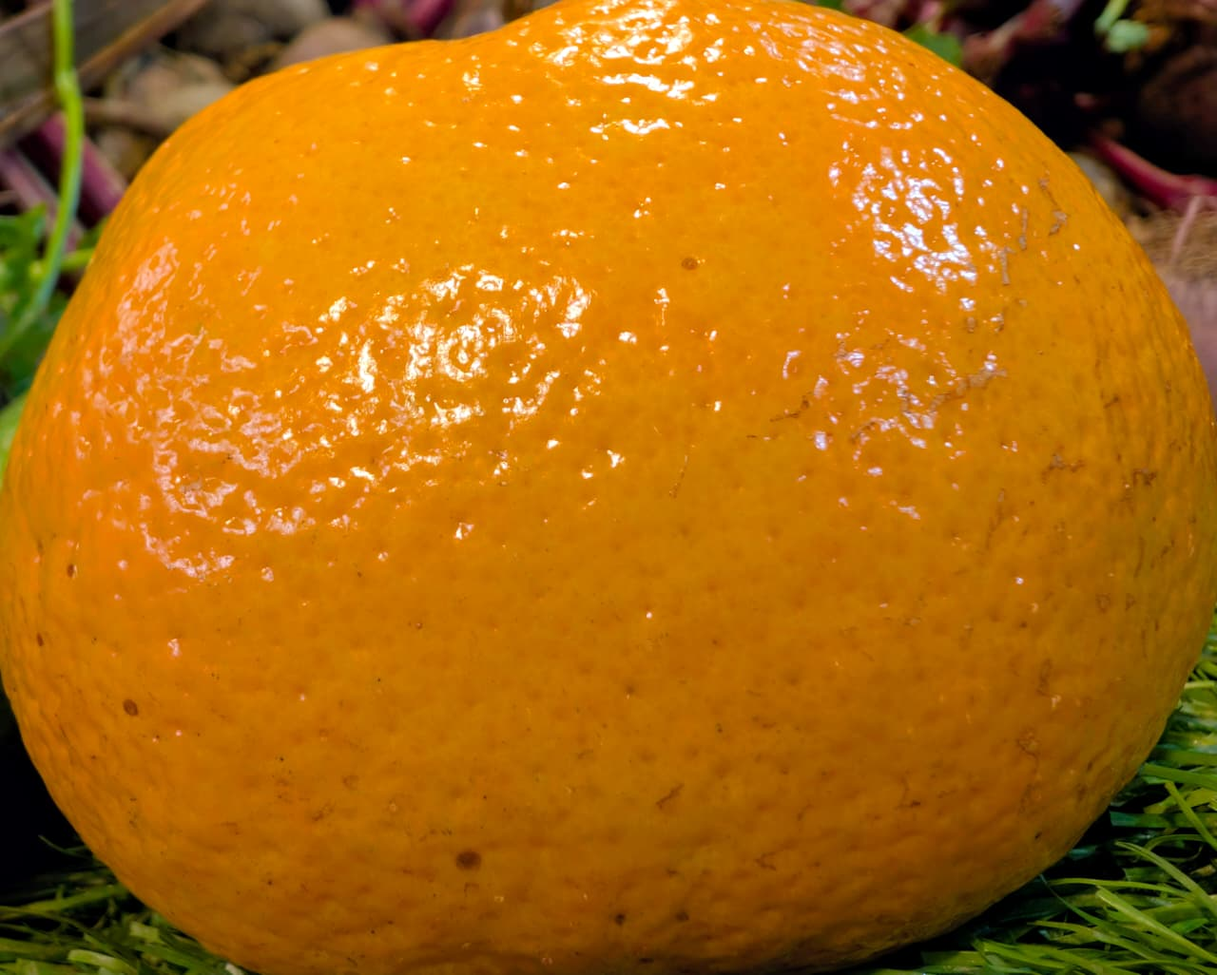orange: (256, 143, 1047, 856)
